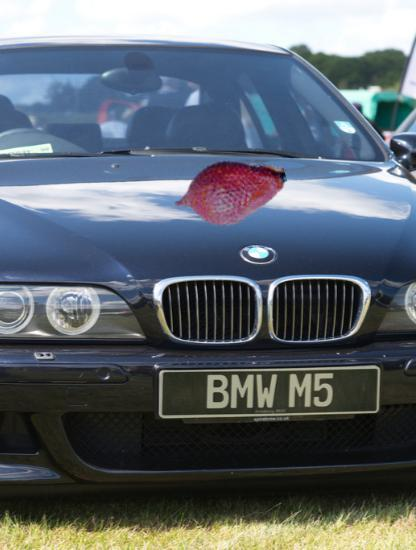Salak: (172, 134, 288, 250)
